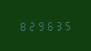eight: (17, 20, 25, 31)
five: (63, 19, 71, 30)
nine: (36, 20, 44, 31)
six: (45, 20, 53, 30)
three: (54, 19, 62, 30)
two: (26, 20, 34, 31)
